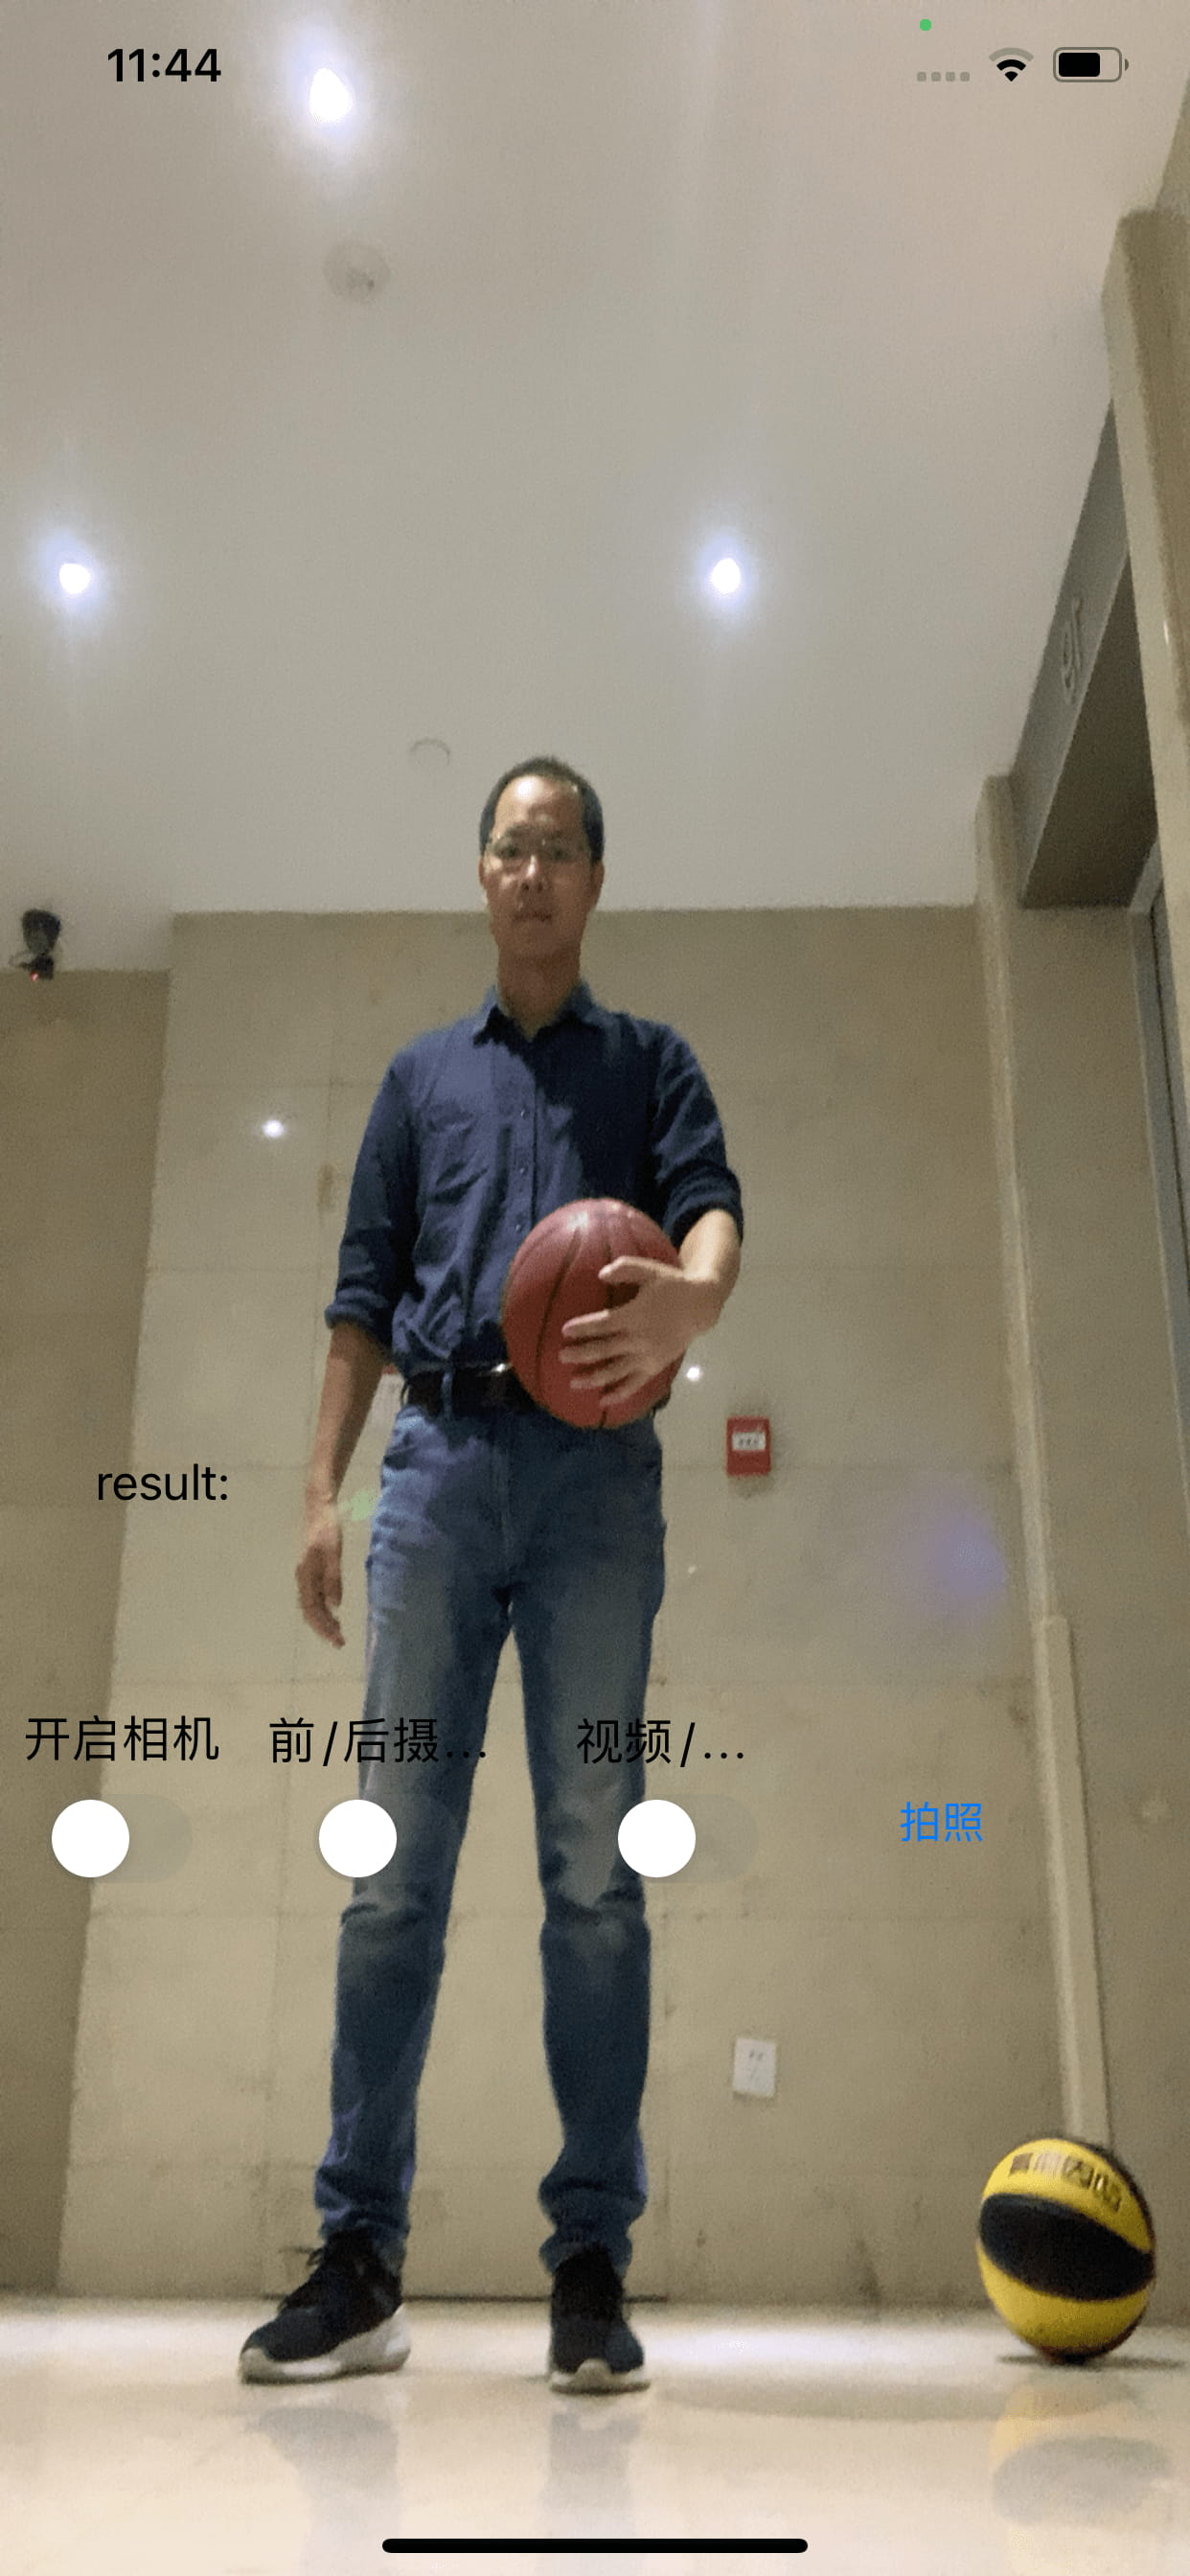ball: (505, 1194, 699, 1436), (975, 2132, 1152, 2369)
